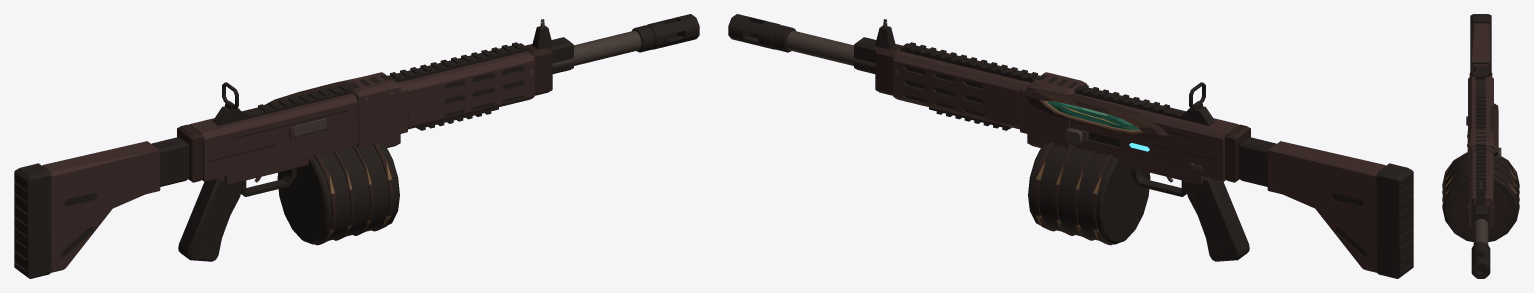
The model's file is Ares_Rootglass_v01.fbx.
3 renders of one model, left to right at view 1: azimuth 30°, elevation 25°; view 2: azimuth 150°, elevation 25°; view 3: azimuth 270°, elevation 25°, orthographic. The views are drawn at different scales.
Parts seen in each view (by area): view 1: Ares_Receiver, Ares_Stock, Ares_Drum, Ares_Handguard, Ares_Grip, Ares_Barrel, Ares_Sights; view 2: Ares_Stock, Ares_Receiver, Ares_Drum, Ares_Handguard, Ares_Grip, Ares_Barrel, Rootglass_Left_CarvedShell, Ares_Sights, Rootglass_Left_FacetedMineral; view 3: Ares_Drum, Ares_Receiver, Ares_Handguard, Ares_Stock, Ares_Barrel, Ares_Sights, Rootglass_Left_CarvedShell, Ares_ChargingHandle.
Boxes of the visible parts, x1,y1,x2,y2 form: Ares_Receiver: (177, 42, 527, 196); Ares_Stock: (14, 137, 189, 278); Ares_Drum: (277, 142, 399, 245); Ares_Handguard: (402, 37, 573, 130); Ares_Grip: (178, 177, 243, 261); Ares_Barrel: (552, 14, 699, 67); Ares_Sights: (212, 19, 552, 125); Ares_Stock: (1238, 137, 1413, 278); Ares_Receiver: (900, 42, 1250, 196); Ares_Drum: (1028, 142, 1150, 245); Ares_Handguard: (854, 37, 1025, 130); Ares_Grip: (1184, 177, 1249, 261); Ares_Barrel: (728, 14, 875, 67); Rootglass_Left_CarvedShell: (1020, 88, 1169, 139); Ares_Sights: (875, 19, 1215, 125); Rootglass_Left_FacetedMineral: (1047, 101, 1138, 130); Ares_Drum: (1442, 152, 1519, 241); Ares_Receiver: (1466, 72, 1494, 194); Ares_Handguard: (1468, 150, 1493, 234); Ares_Stock: (1470, 14, 1491, 71); Ares_Barrel: (1471, 219, 1490, 278); Ares_Sights: (1470, 62, 1491, 205); Rootglass_Left_CarvedShell: (1490, 103, 1498, 156); Ares_ChargingHandle: (1494, 147, 1501, 160).
Size of the model in its own units: 431 by 107 by 57.6.
